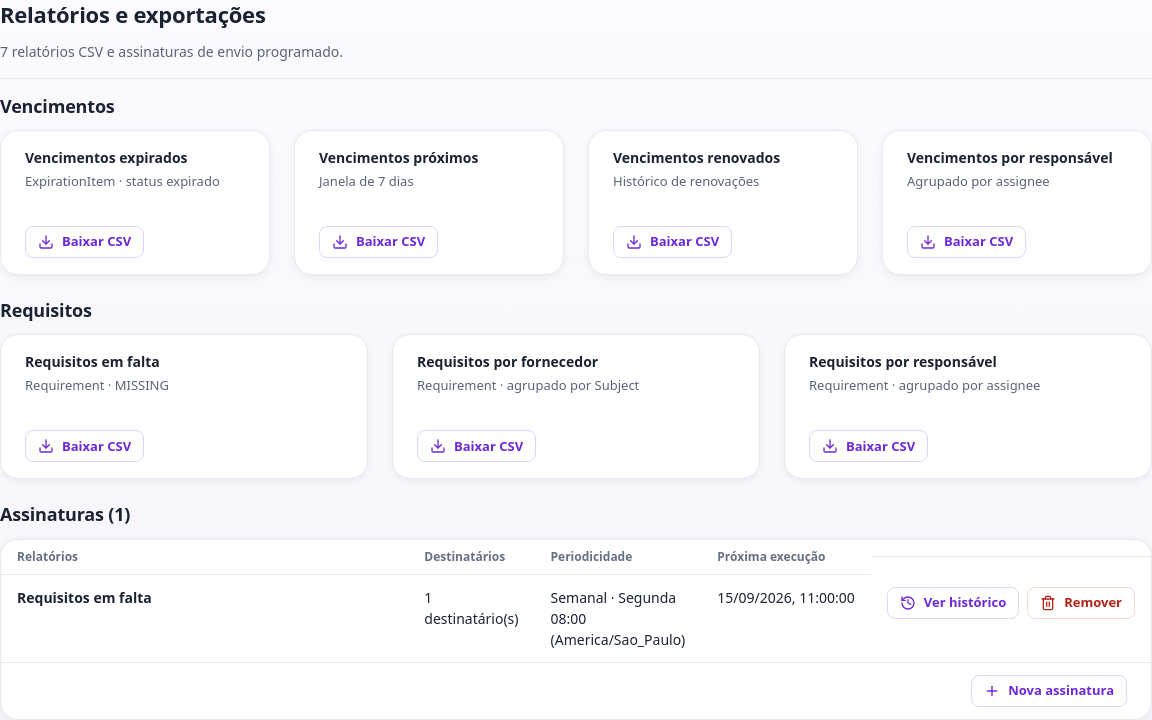
Scenario: Reports (A16, Block 10) › D-293: a subscription that never ran shows an honest empty history, never a fabricated run
The width and height of the screenshot is (1152, 720).
What coordinates should you click on to do the following:
click the button "Ver histórico"
I would click on:
 (953, 603)
Its box is [887,587,1019,619].
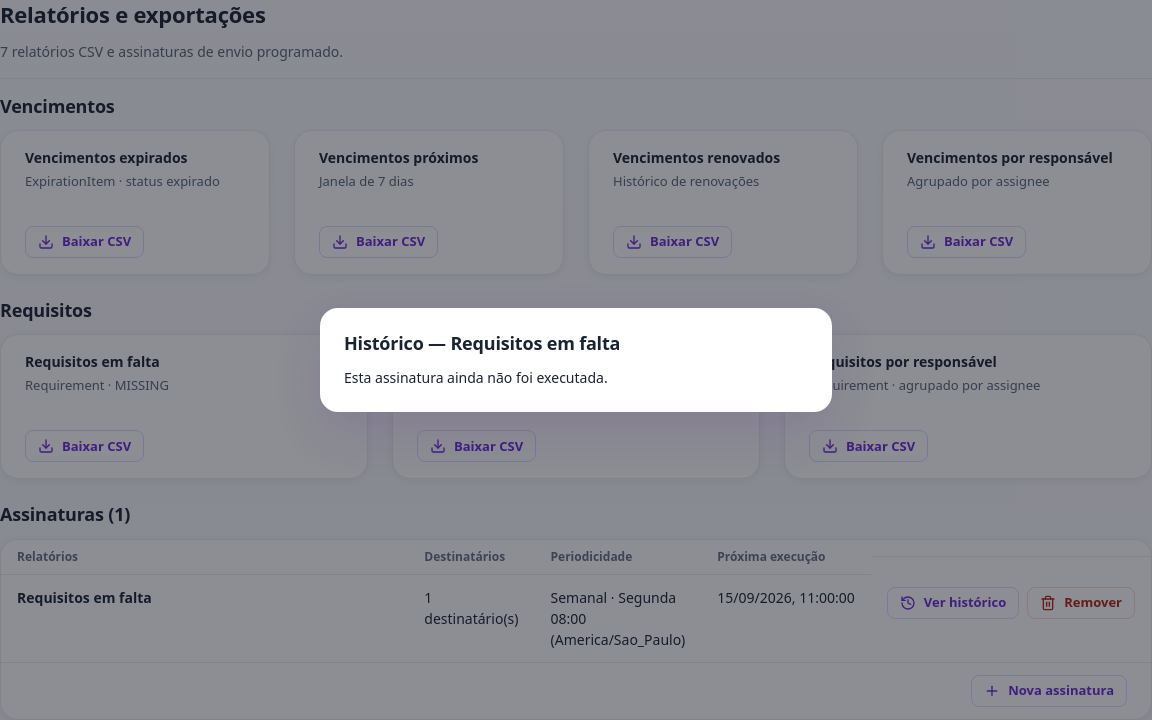
Expected: the text "Esta assinatura ainda não foi executada." is shown, [344,368,608,387]
